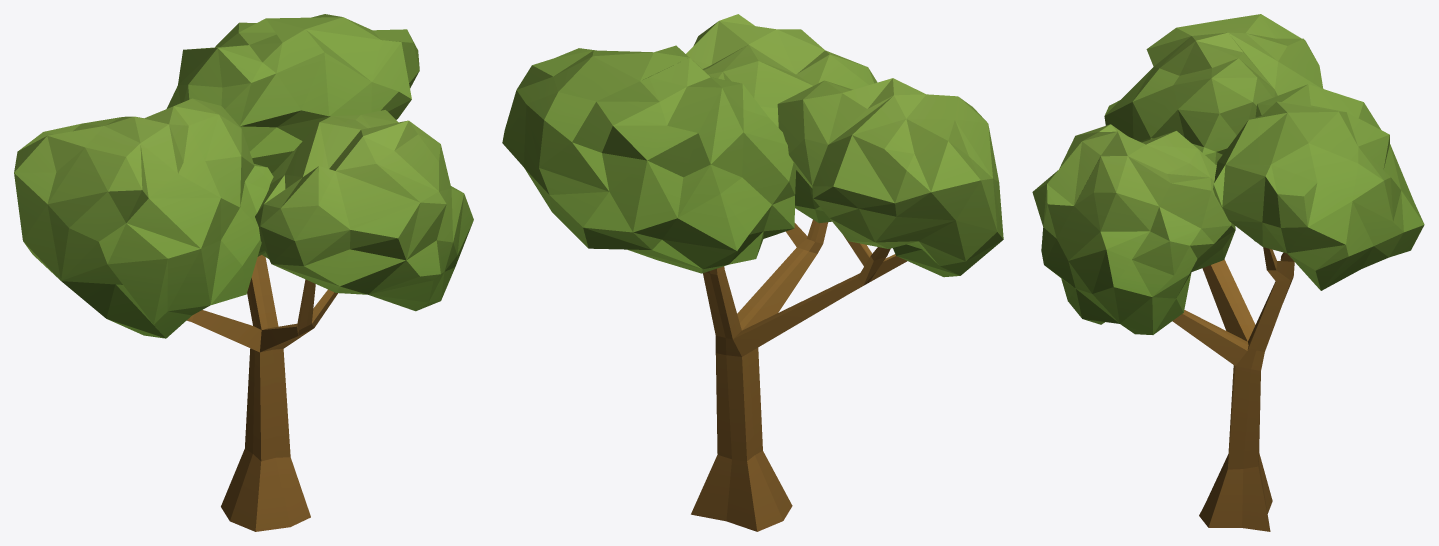
File: city_tree_b.obj
The picture shows the model from 3 angles, left to right: view 1: azimuth 30°, elevation 25°; view 2: azimuth 150°, elevation 25°; view 3: azimuth 270°, elevation 25°; orthographic projection. The views are drawn at different scales.
Visible parts, largest first — view 1: Tree_average_regular; view 2: Tree_average_regular; view 3: Tree_average_regular.
Part boxes in pixels (x1,y1,x2,y2): Tree_average_regular: (14,14,473,531); Tree_average_regular: (502,14,1003,531); Tree_average_regular: (1032,14,1424,531).
Bounding box in the file's own units: 0.9547 × 0.9504 × 0.7824.
